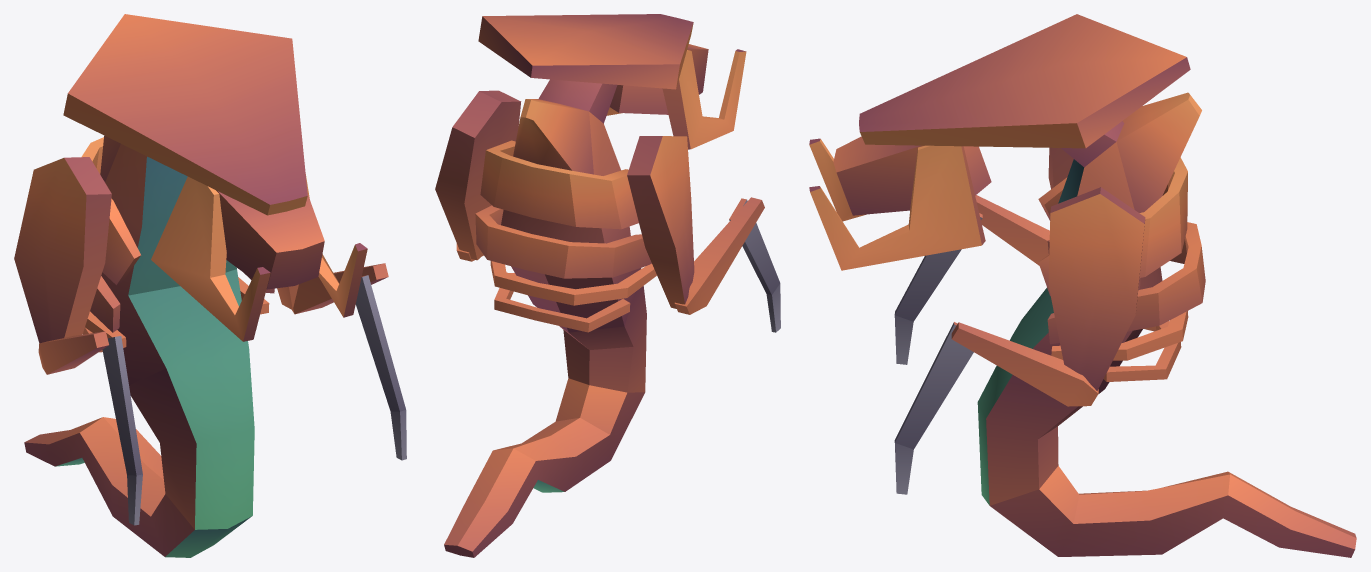
File: Alien_01.fbx
3 views of the same model, side by side, from view 1: azimuth 30°, elevation 25°; view 2: azimuth 150°, elevation 25°; view 3: azimuth 270°, elevation 25° (orthographic). The views are drawn at different scales.
Visible parts, largest first — view 1: Alien_01; view 2: Alien_01; view 3: Alien_01.
Part boxes in pixels (x1=…): Alien_01: x1=14, y1=14, x2=406, y2=557; Alien_01: x1=435, y1=14, x2=780, y2=557; Alien_01: x1=809, y1=14, x2=1356, y2=557.
Bounding box in the file's own units: 43.18 × 70.15 × 70.4.
